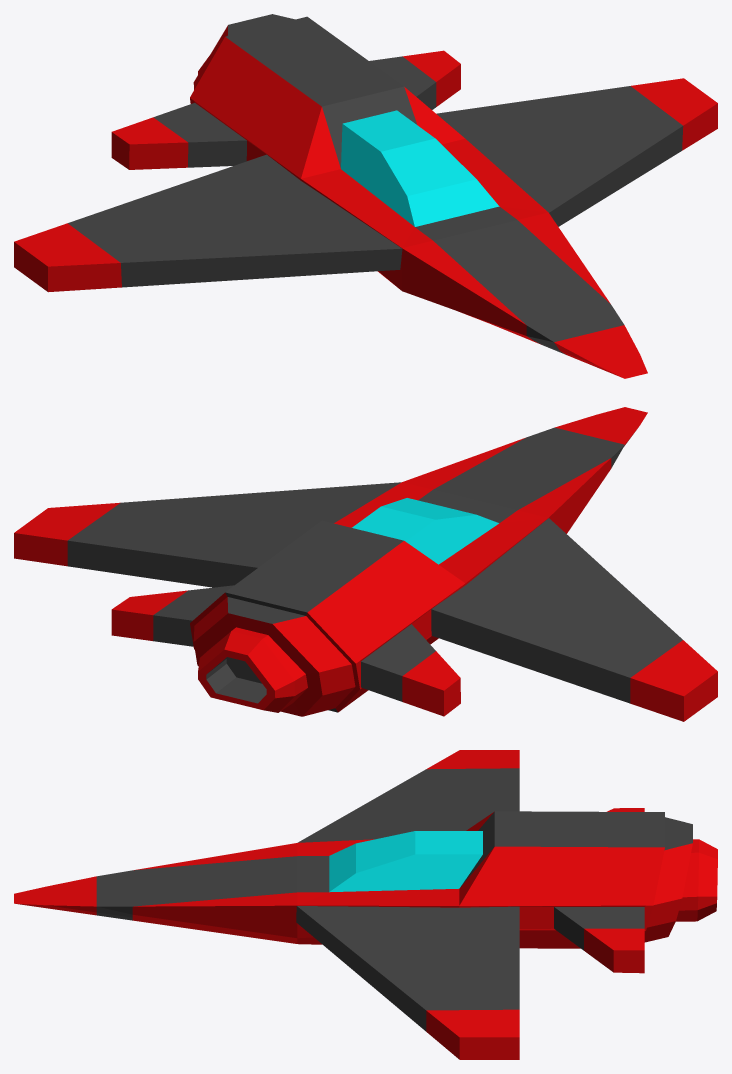
File: Enemy_BulletPropelledPlane.fbx
3 renders of one model, top to bottom at view 1: azimuth 30°, elevation 25°; view 2: azimuth 150°, elevation 25°; view 3: azimuth 270°, elevation 25°, orthographic. The views are drawn at different scales.
Parts seen in each view (by area): view 1: Cube, Cube.001; view 2: Cube, Cube.001; view 3: Cube, Cube.001.
Boxes of the visible parts, x1=… form: Cube: x1=111, y1=14, x2=647, y2=378; Cube.001: x1=14, y1=78, x2=717, y2=292; Cube: x1=111, y1=407, x2=647, y2=716; Cube.001: x1=14, y1=482, x2=717, y2=721; Cube: x1=14, y1=808, x2=717, y2=973; Cube.001: x1=296, y1=750, x2=519, y2=1059.
Bounding box in the file's own units: 11.88 × 12.31 × 1.84.
